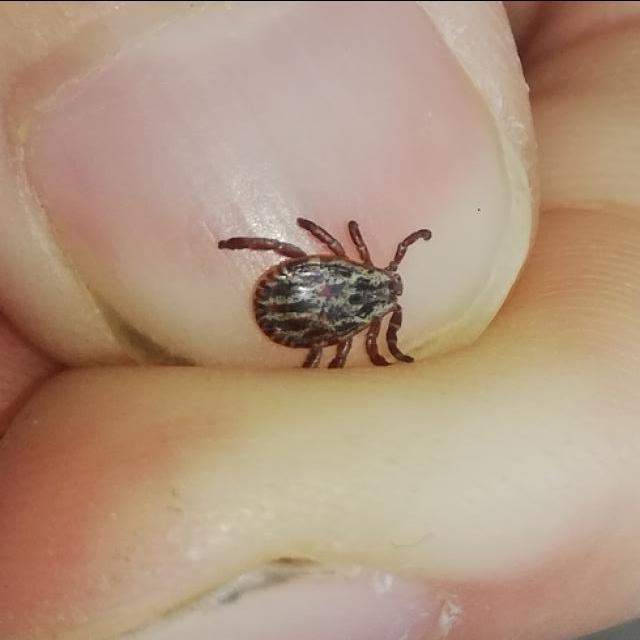Dermacentor Reticulatus-M: (219, 218, 431, 367)
